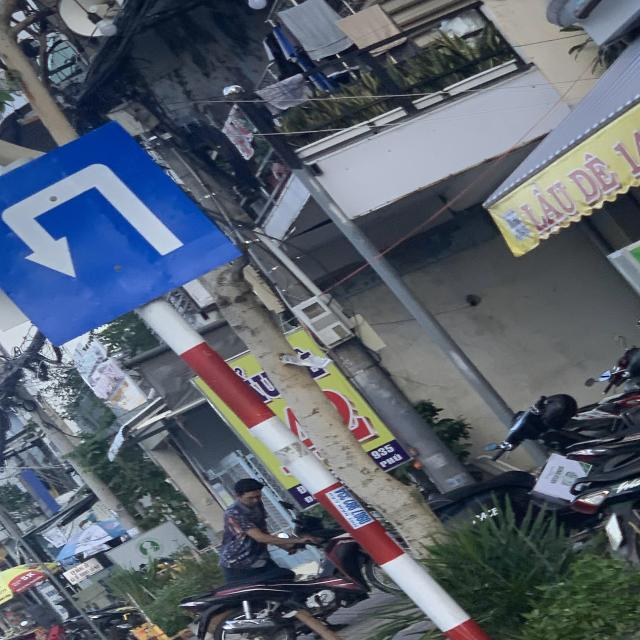Den_Giao_Thong: (0, 124, 237, 346)
